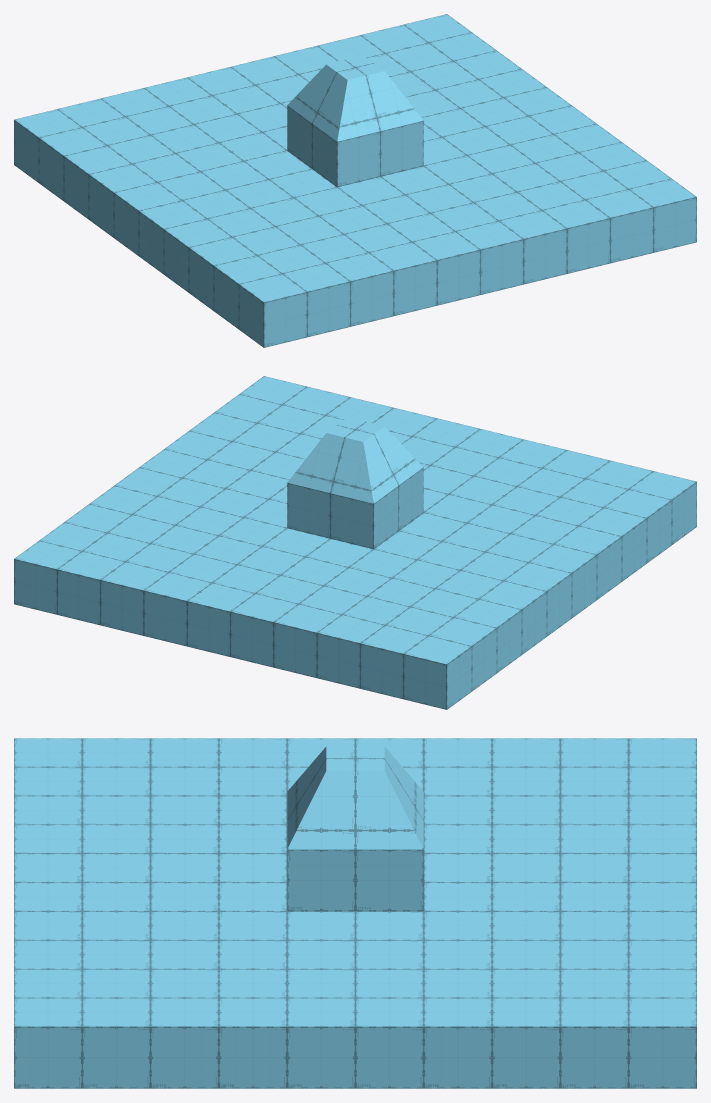
Rendered from ProB_Floor_10x10_BluePedestal.fbx.
3 views of the same model, one above another, from view 1: azimuth 30°, elevation 25°; view 2: azimuth 150°, elevation 25°; view 3: azimuth 270°, elevation 25° (orthographic). The views are drawn at different scales.
Visible parts, largest first — view 1: ProB_Floor_10x10; view 2: ProB_Floor_10x10; view 3: ProB_Floor_10x10.
Boxes of the visible parts, x1,y1,x2,y2 form: ProB_Floor_10x10: (14, 14, 696, 347); ProB_Floor_10x10: (14, 376, 696, 709); ProB_Floor_10x10: (14, 738, 696, 1088).
Size of the model in its own units: 1000 by 300 by 1000.
